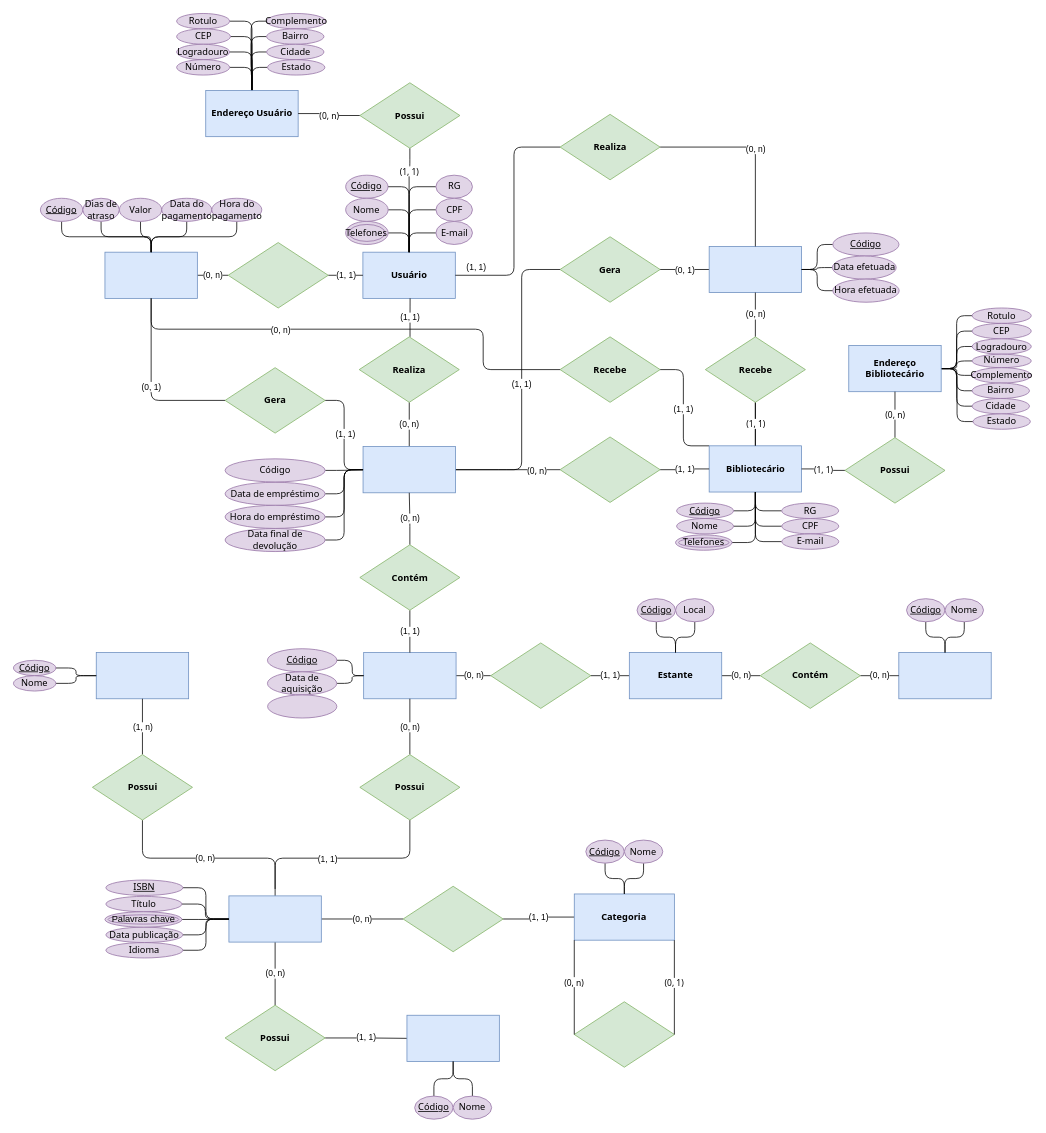
The diagram is 1046 pixels wide and 1133 high, and some of its shapes have lost their labels. Each missing label, with the centre of its shape:
Autor: the point at 142,675
Descrição: the point at 302,706
Devolução: the point at 755,269
Editora: the point at 452,1037
Efetua: the point at 609,469
Empréstimo: the point at 408,469
Exemplar: the point at 409,675
Guarda: the point at 540,675
Livro: the point at 274,918
Multa: the point at 150,274
Paga: the point at 277,275
Pertence: the point at 452,919
Seção: the point at 944,675
Subordinada: the point at 623,1034
